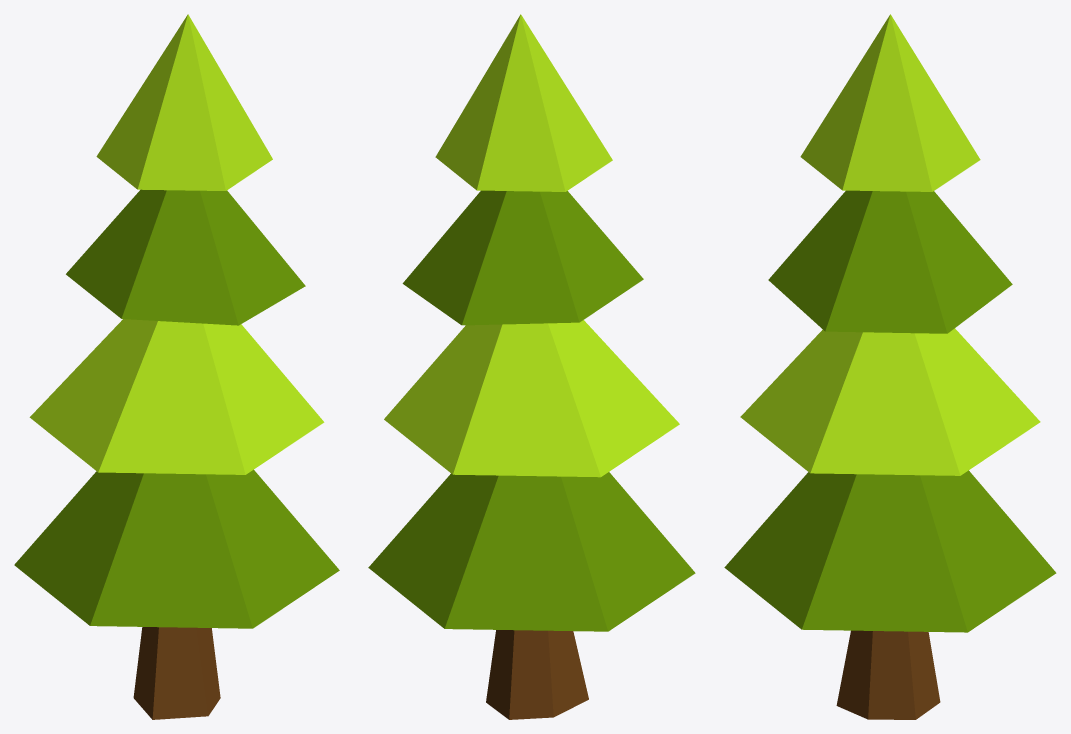
File: tree2.fbx
The picture shows the model from 3 angles, left to right: view 1: azimuth 30°, elevation 25°; view 2: azimuth 150°, elevation 25°; view 3: azimuth 270°, elevation 25°; orthographic projection.
Parts seen in each view (by area): view 1: Tree2; view 2: Tree2; view 3: Tree2.
Boxes of the visible parts, x1=… form: Tree2: x1=14, y1=14, x2=339, y2=719; Tree2: x1=368, y1=14, x2=695, y2=719; Tree2: x1=724, y1=14, x2=1056, y2=719.
Size of the model in its own units: 1.49 by 3.88 by 1.68.
